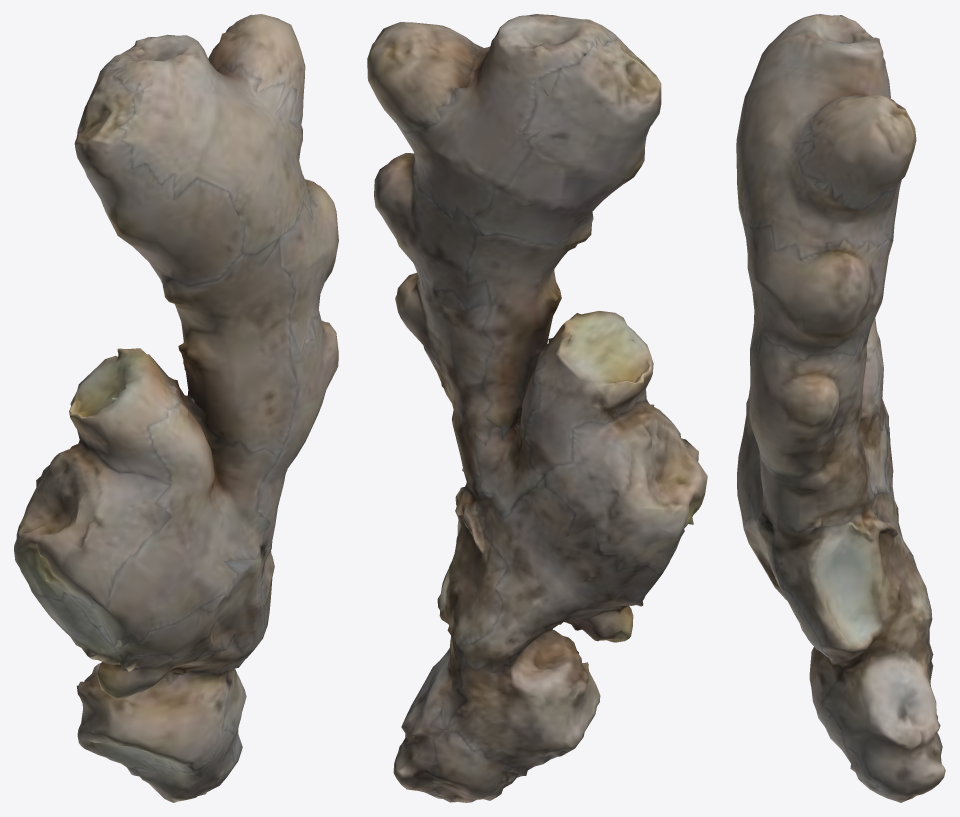
Rendered from food_ginger_01.glb.
3 views of the same model, side by side, from view 1: azimuth 30°, elevation 25°; view 2: azimuth 150°, elevation 25°; view 3: azimuth 270°, elevation 25° (orthographic). The views are drawn at different scales.
Visible parts, largest first — view 1: food_ginger_01; view 2: food_ginger_01; view 3: food_ginger_01.
Part boxes in pixels (left/top/right/bottom): food_ginger_01: left=14, top=14, right=338, bottom=802; food_ginger_01: left=367, top=14, right=707, bottom=802; food_ginger_01: left=736, top=14, right=945, bottom=802.
Size of the model in its own units: 0.2399 by 0.5746 by 0.1474.
1 material, 1 textured.
